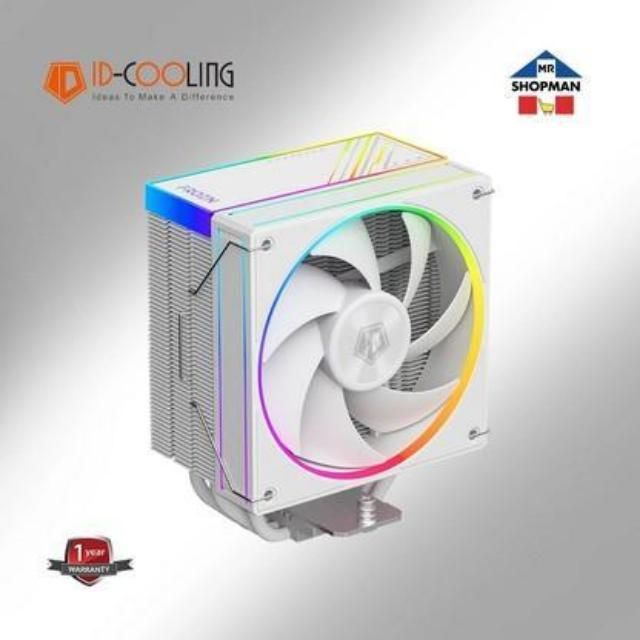CPU_Fan: (148, 132, 496, 536)
